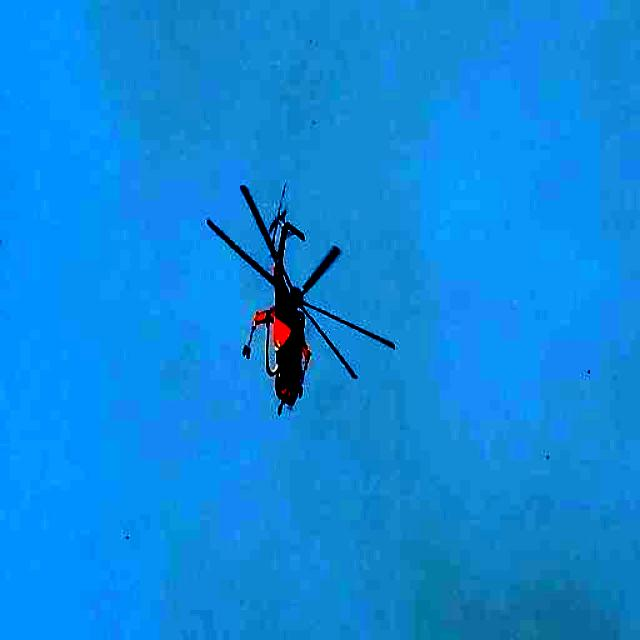drone: (208, 179, 396, 422)
